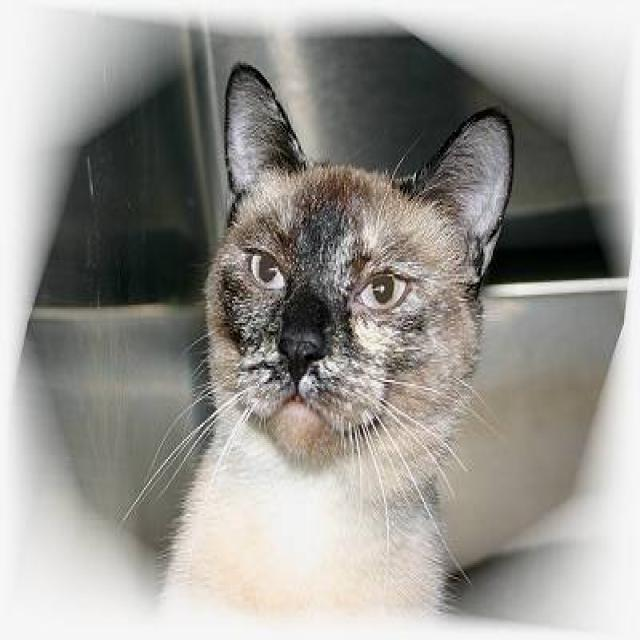Kucing: (79, 74, 534, 640)
